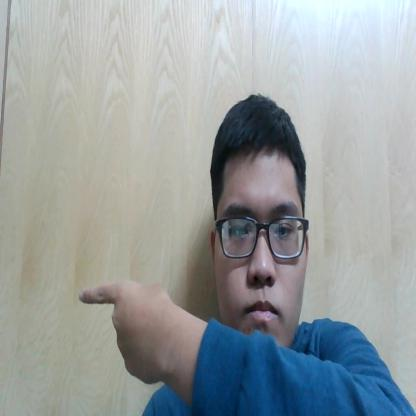right: (69, 266, 189, 399)
